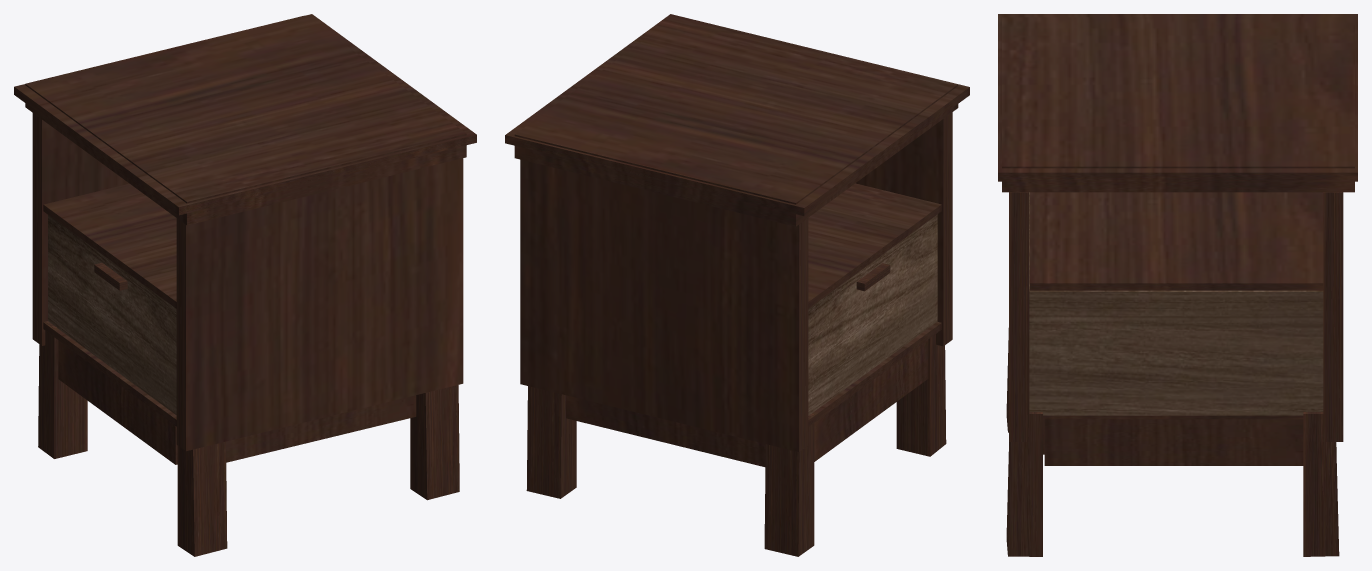
File: Nightstand.fbx
The picture shows the model from 3 angles, left to right: view 1: azimuth 30°, elevation 25°; view 2: azimuth 150°, elevation 25°; view 3: azimuth 270°, elevation 25°; orthographic projection. The views are drawn at different scales.
Parts seen in each view (by area): view 1: Cube.001, Cube, Cube.004, Cube.005, Cube.003, Cube.002, Cube.014, Cube.013, Cube.007, Cube.011, Cube.009, Cube.006; view 2: Cube.002, Cube, Cube.004, Cube.005, Cube.003, Cube.001, Cube.011, Cube.012, Cube.010, Cube.007, Cube.014, Cube.006; view 3: Cube, Cube.004, Cube.005, Cube.008, Cube.003, Cube.001, Cube.002, Cube.012, Cube.013, Cube.006.
Part boxes in pixels (x1,y1,x2,y2): Cube.001: (176,158,463,451); Cube: (25,15,466,225); Cube.004: (48,215,176,414); Cube.005: (43,183,176,308); Cube.003: (14,14,476,215); Cube.002: (32,113,128,345); Cube.014: (177,441,227,556); Cube.013: (410,385,459,500); Cube.007: (58,340,177,464); Cube.011: (38,321,87,458); Cube.009: (226,395,416,462); Cube.006: (43,322,176,426); Cube.002: (520,159,808,451); Cube: (514,15,958,226); Cube.004: (808,214,937,415); Cube.005: (808,183,941,308); Cube.003: (505,14,969,216); Cube.001: (855,112,952,346); Cube.011: (764,413,814,556); Cube.012: (526,386,576,498); Cube.010: (566,395,765,466); Cube.007: (814,340,928,461); Cube.014: (896,334,946,456); Cube.006: (808,321,941,426); Cube: (1002,17,1354,192); Cube.004: (1029,192,1323,415); Cube.005: (1030,192,1323,290); Cube.008: (1044,419,1303,465); Cube.003: (998,14,1357,181); Cube.001: (1009,192,1029,441); Cube.002: (1323,192,1343,441); Cube.012: (1303,412,1339,556); Cube.013: (1006,412,1042,556); Cube.006: (1043,415,1303,419).
Bounding box in the file's own units: 213 × 246 × 204.
